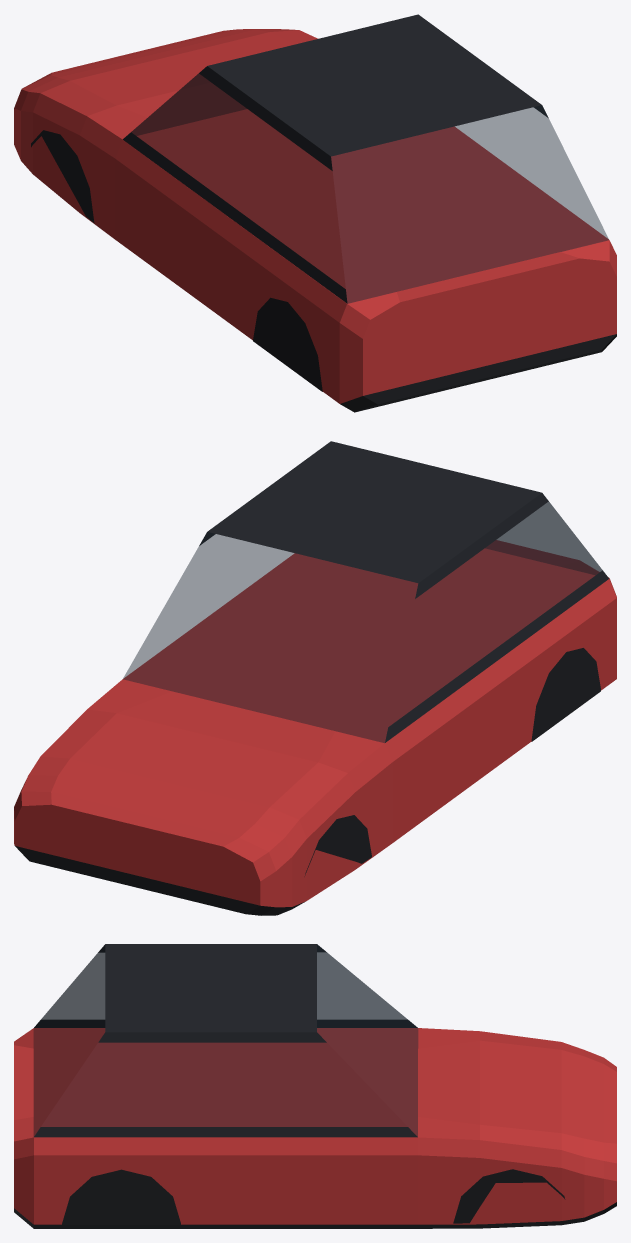
The model's file is compact_lod.glb.
3 views of the same model, one above another, from view 1: azimuth 30°, elevation 25°; view 2: azimuth 150°, elevation 25°; view 3: azimuth 270°, elevation 25° (orthographic). The views are drawn at different scales.
Parts seen in each view (by area): view 1: Body; view 2: Body; view 3: Body.
Boxes of the visible parts, x1=… form: Body: x1=14, y1=14, x2=616, y2=412; Body: x1=14, y1=441, x2=616, y2=915; Body: x1=14, y1=944, x2=616, y2=1228.
Size of the model in its own units: 1.69 by 1.28 by 3.7.
